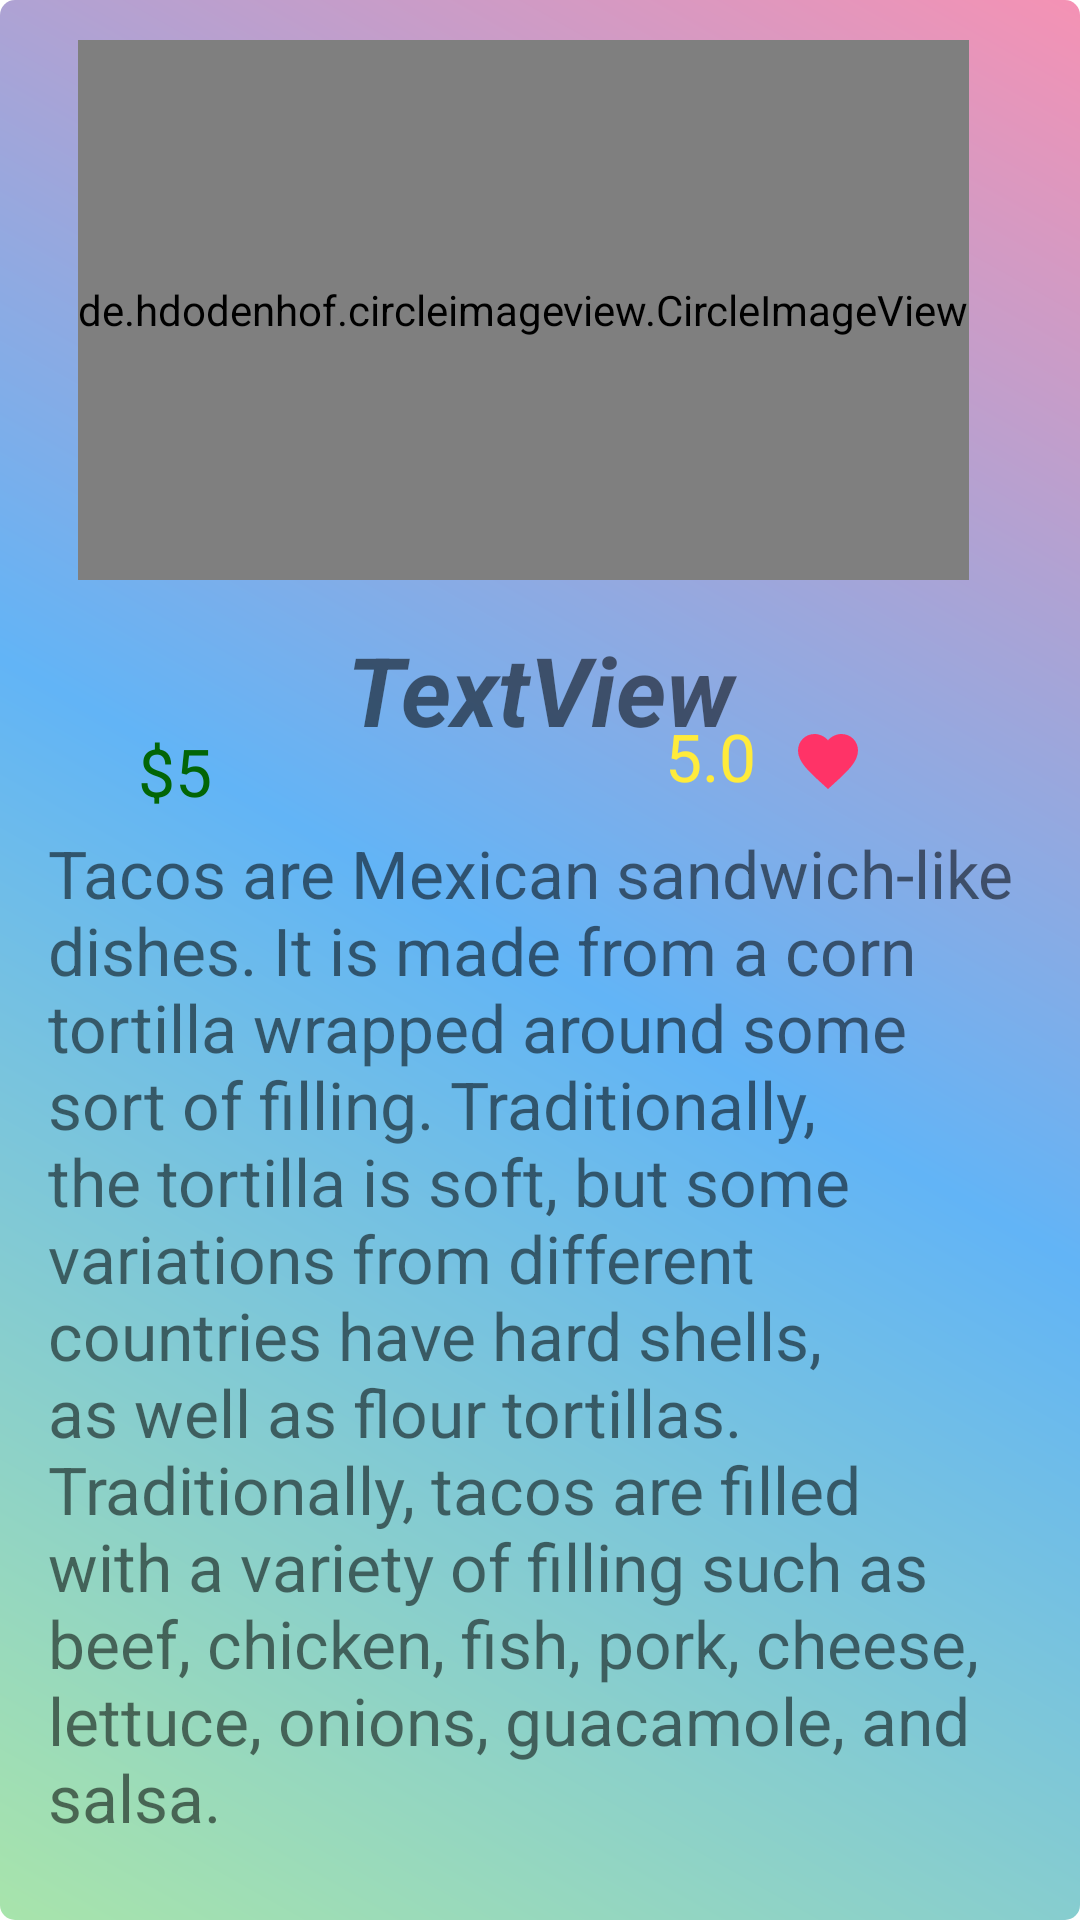

Named icons in this screenshot (1080w x 1920h) and their bounding boxes, {"x1": x1, "y1": y1, "x2": x2, "y2": y2}:
favorite: {"x1": 798, "y1": 734, "x2": 858, "y2": 789}
